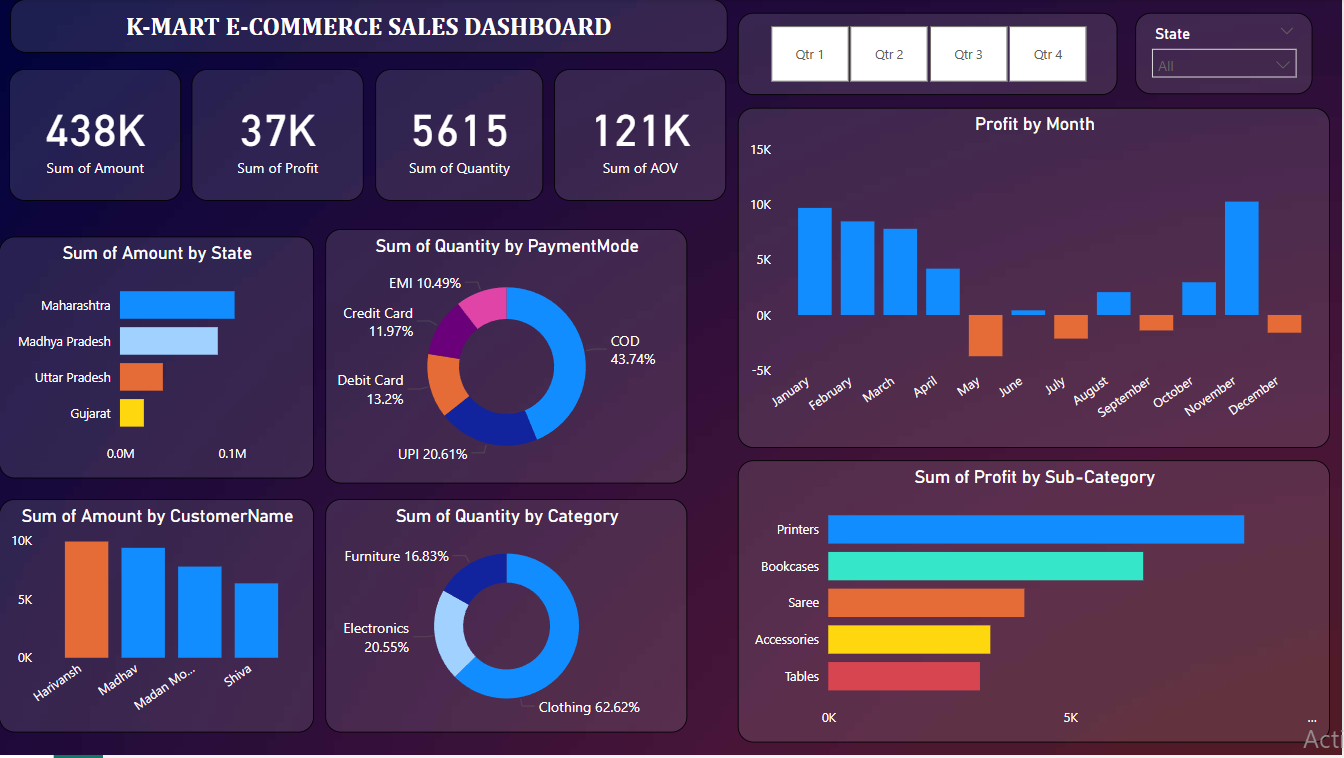

Layout of this report page (visuals, bound fields, positions):
{"tool":"powerbi","page":{"name":"Page 1","canvas":[1280,720],"ordinal":0},"visuals":[{"type":"textbox","box":[10.3,0,683.4,51.4],"z":0},{"type":"columnChart","title":"Profit by Month","fields":{"Category":["Orders.Order Date.Variation.Date Hierarchy.Month"],"Y":["Details.Profit"]},"box":[703.6,103.6,564.3,323.8],"z":1000},{"type":"barChart","fields":{"Category":["Details.Sub-Category"],"Y":["Details.Profit"]},"box":[703.9,439.4,564.3,268.9],"z":2000},{"type":"donutChart","fields":{"Category":["Details.PaymentMode"],"Y":["Details.Quantity"]},"box":[310.7,219.5,344.9,242.3],"z":3000},{"type":"donutChart","fields":{"Category":["Details.Category"],"Y":["Details.Quantity"]},"box":[310.7,476.1,344.9,222.4],"z":4000},{"type":"card","fields":{"Values":["Details.Amount"]},"box":[10,67,163.9,125.4],"z":5000},{"type":"card","fields":{"Values":["Details.Profit"]},"box":[183.9,67,163.9,125.4],"z":6000},{"type":"card","fields":{"Values":["Details.Quantity"]},"box":[357.8,67,159.6,125.4],"z":7000},{"type":"card","fields":{"Values":["Details.AOV"]},"box":[528.8,67,163.9,125.4],"z":8000},{"type":"barChart","fields":{"Category":["Orders.State"],"Y":["Details.Amount"]},"box":[0,226.3,299.8,230.7],"z":9000},{"type":"columnChart","fields":{"Category":["Orders.CustomerName"],"Y":["Details.Amount"]},"box":[0,476,300,222],"z":10000},{"type":"slicer","fields":{"Values":["Orders.Order Date.Variation.Date Hierarchy.Quarter"]},"box":[703.6,13.1,361.9,78.6],"z":11000},{"type":"slicer","fields":{"Values":["Orders.State"]},"box":[1081.6,13.2,169,77.9],"z":12000}]}

Visuals, with their boxes in screenshot pixels (x1, y1, x2, y2), scaled from the page's 1280x720 canvas onto the 1344x758 screenshot:
textbox: box(11, 0, 728, 54)
"Profit by Month" columnChart: box(739, 109, 1331, 450)
barChart - Details.Sub-Category x Details.Profit: box(739, 463, 1332, 746)
donutChart - Details.PaymentMode x Details.Quantity: box(326, 231, 688, 486)
donutChart - Details.Category x Details.Quantity: box(326, 501, 688, 735)
card - Details.Amount: box(10, 71, 183, 203)
card - Details.Profit: box(193, 71, 365, 203)
card - Details.Quantity: box(376, 71, 543, 203)
card - Details.AOV: box(555, 71, 727, 203)
barChart - Orders.State x Details.Amount: box(0, 238, 315, 481)
columnChart - Orders.CustomerName x Details.Amount: box(0, 501, 315, 735)
slicer - Orders.Order Date.Variation.Date Hierarchy.Quarter: box(739, 14, 1119, 97)
slicer - Orders.State: box(1136, 14, 1313, 96)
